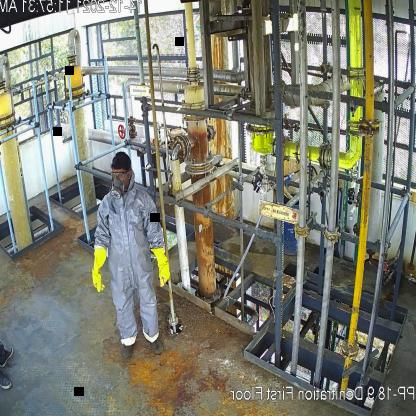goggles: (110, 170, 126, 180)
mask: (109, 176, 126, 200)
